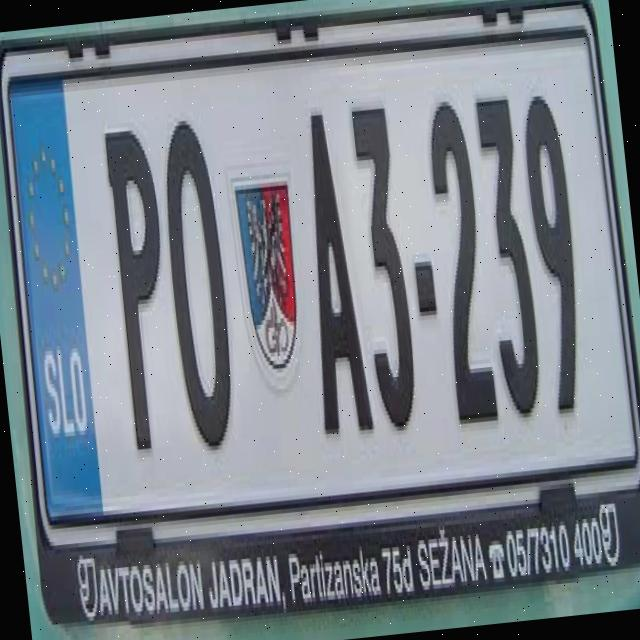EU: (0, 0, 640, 640)
Slovenie: (4, 71, 106, 528)
